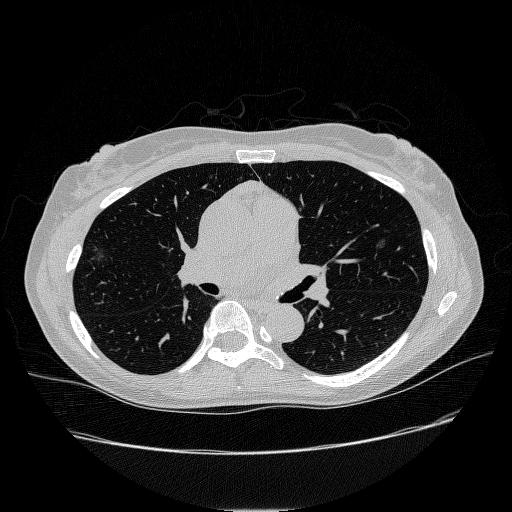nodule: (375, 237, 388, 250)
